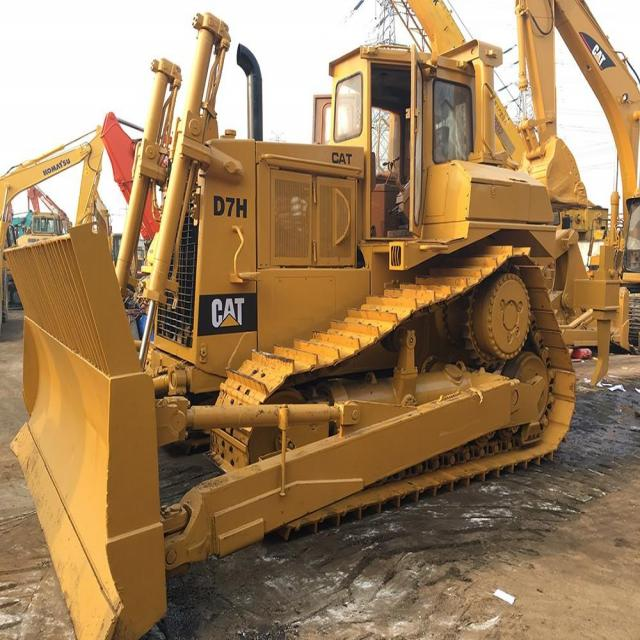Bulldozer: (13, 9, 595, 639)
